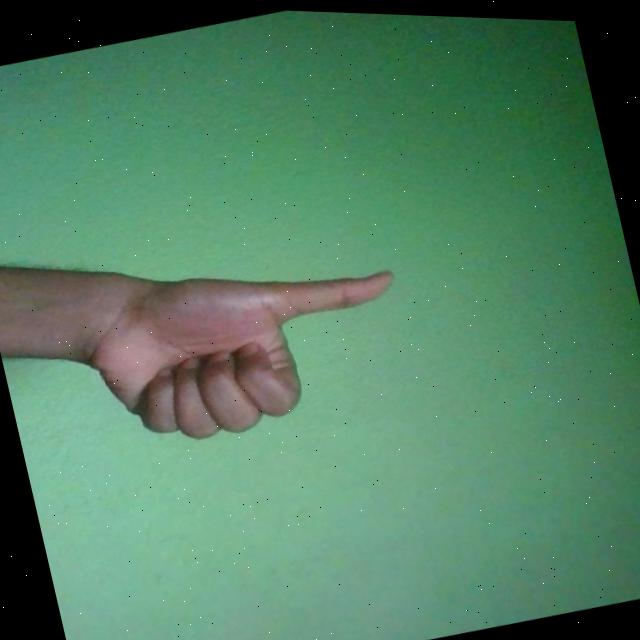Good Job: (68, 228, 420, 468)
